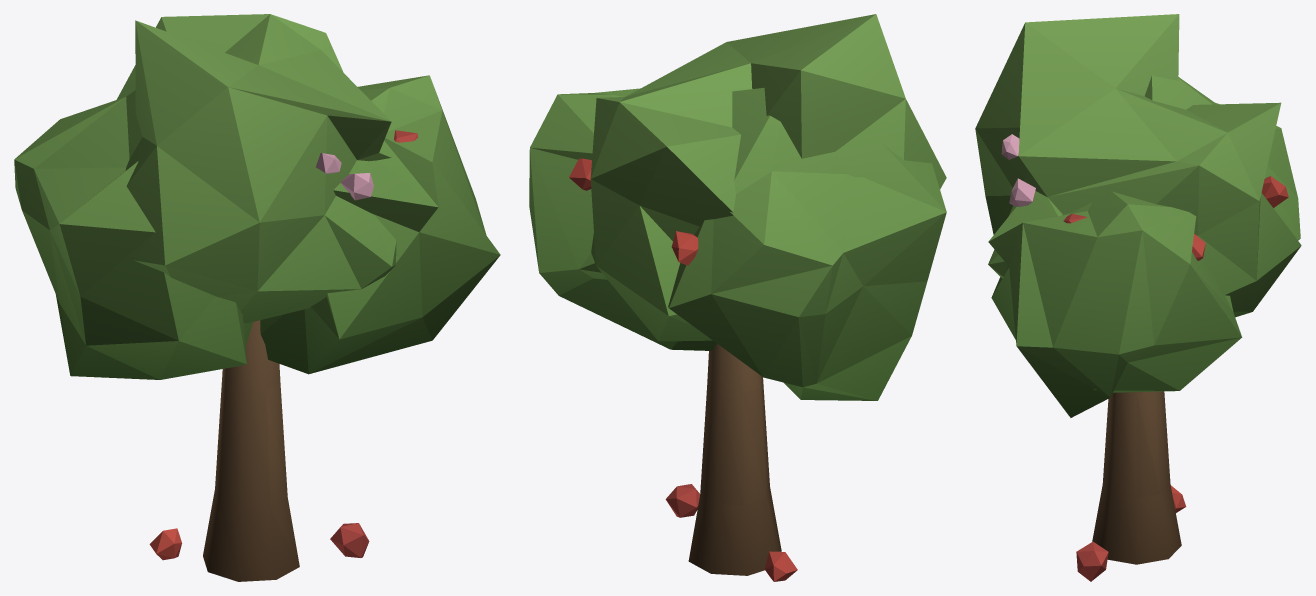
The model's file is tree_fruit_01.glb.
The picture shows the model from 3 angles, left to right: view 1: azimuth 30°, elevation 25°; view 2: azimuth 150°, elevation 25°; view 3: azimuth 270°, elevation 25°; orthographic projection. The views are drawn at different scales.
Visible parts, largest first — view 1: tree_fruit_01; view 2: tree_fruit_01; view 3: tree_fruit_01.
Part boxes in pixels (left/top/right/bottom): tree_fruit_01: left=14, top=14, right=500, bottom=581; tree_fruit_01: left=529, top=14, right=946, bottom=581; tree_fruit_01: left=975, top=14, right=1301, bottom=581.
Size of the model in its own units: 2.32 by 2.88 by 1.73.
